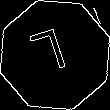L_S: (33, 26, 77, 84)
